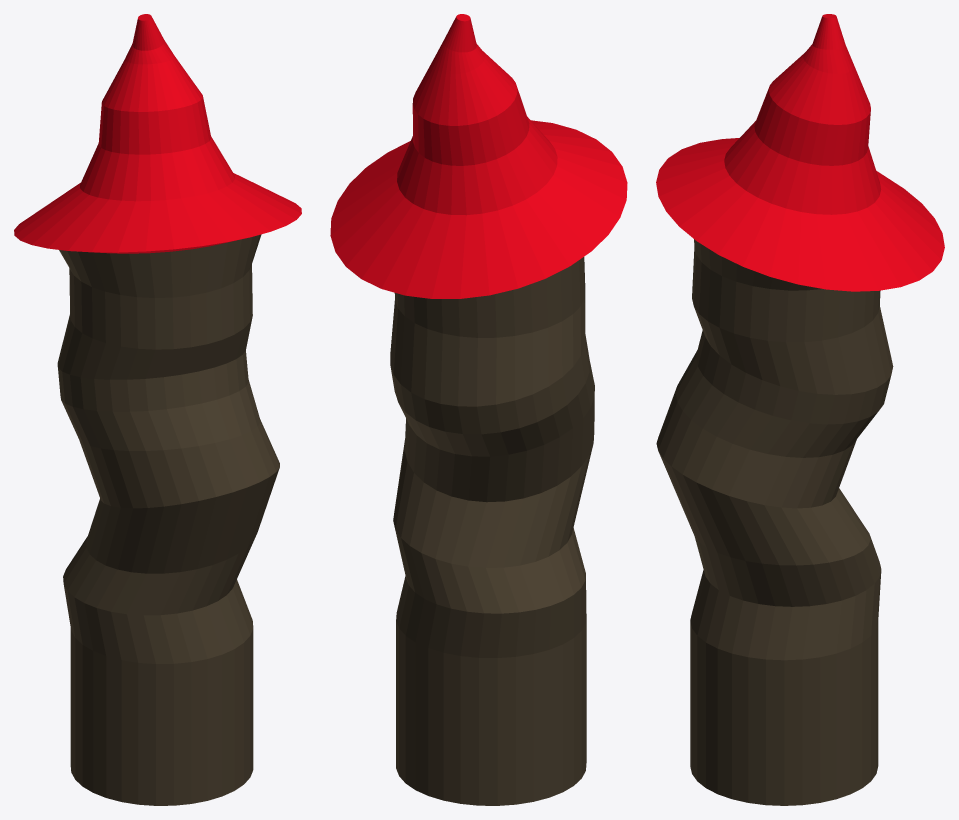
The model's file is WizardTower.fbx.
3 renders of one model, left to right at view 1: azimuth 30°, elevation 25°; view 2: azimuth 150°, elevation 25°; view 3: azimuth 270°, elevation 25°, orthographic. The views are drawn at different scales.
Parts seen in each view (by area): view 1: Cylinder; view 2: Cylinder; view 3: Cylinder.
Part boxes in pixels (x1,y1,x2,y2): Cylinder: (14,14,301,805); Cylinder: (330,14,627,805); Cylinder: (656,14,944,805).
Bounding box in the file's own units: 1043 × 2917 × 1014.
